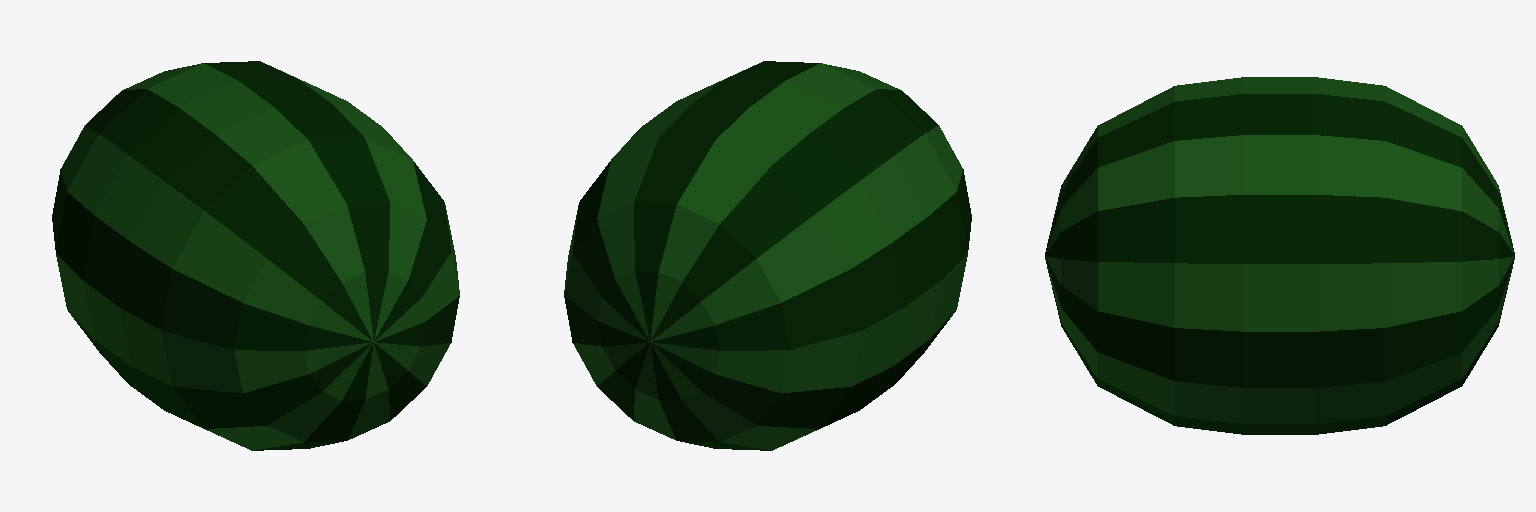
The model's file is watermelon-whole.obj.
3 views of the same model, side by side, from view 1: azimuth 30°, elevation 25°; view 2: azimuth 150°, elevation 25°; view 3: azimuth 270°, elevation 25° (orthographic).
Visible parts, largest first — view 1: Watermelon_Sphere; view 2: Watermelon_Sphere; view 3: Watermelon_Sphere.
Part boxes in pixels (x1,y1,x2,y2): Watermelon_Sphere: (52, 61, 459, 450); Watermelon_Sphere: (564, 61, 971, 450); Watermelon_Sphere: (1045, 77, 1514, 434).
Bounding box in the file's own units: 0.3011 × 0.3011 × 0.3962.